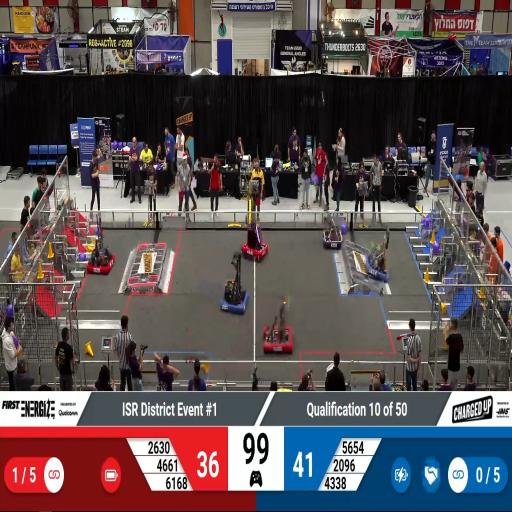robot: (261, 310, 293, 356), (220, 268, 250, 316), (241, 219, 272, 261), (86, 242, 115, 276), (366, 247, 391, 281), (321, 213, 345, 248)
